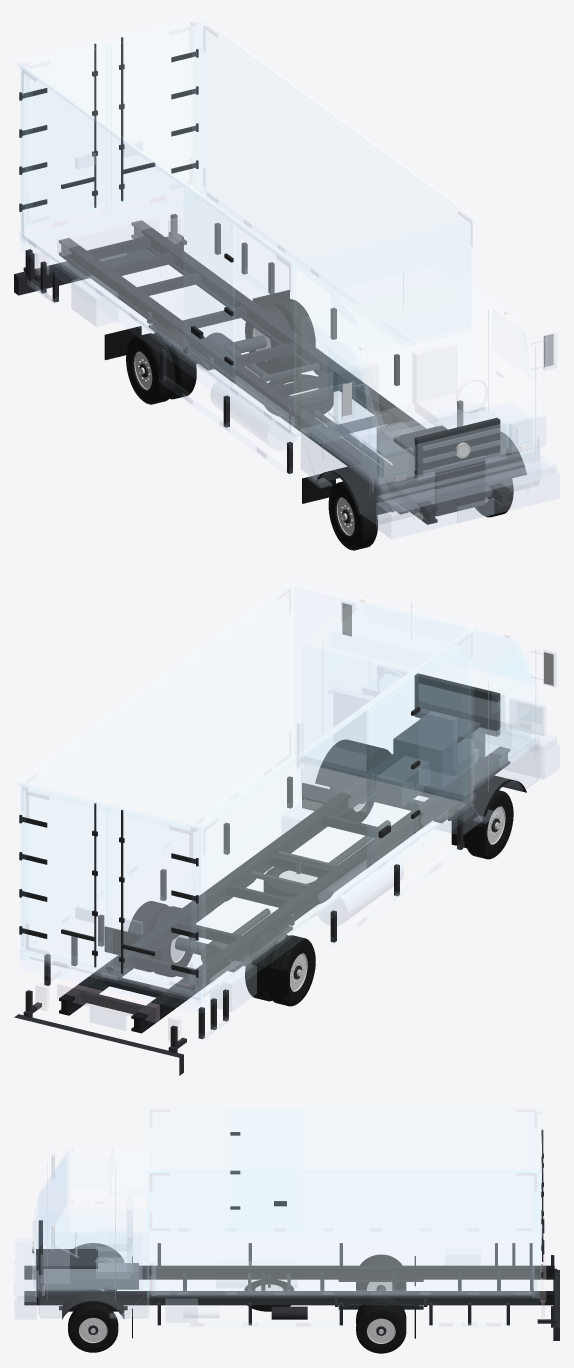
The model's file is vw_delivery_oxi_raiox.glb.
3 views of the same model, one above another, from view 1: azimuth 30°, elevation 25°; view 2: azimuth 150°, elevation 25°; view 3: azimuth 270°, elevation 25° (orthographic). The views are drawn at different scales.
Parts seen in each view (by area): view 1: Floor, Rail_Flange_Top (×2), Tire (×6), Front_Bumper, Cab_Skirt, Crossmember (×7), Rail_Web (×2), Seat_Back (×2), Engine, Cab_Floor, Dashboard, Front_Bumper_Lip (+13 smaller); view 2: Floor, Cab_Skirt, Rail_Flange_Top (×2), Tire (×6), Crossmember (×7), Rail_Web (×2), Engine, Dashboard, Wheel_Arch_Liner (×2), Seat_Back (×2), Radiator, Mud_Flap (×4) (+9 smaller); view 3: Floor, Cab_Skirt, Rail_Web (×2), Rail_Flange_Top (×2), Tire (×4), Rail_Flange_Bottom (×2), Cab_Floor, Engine, Dashboard, Front_Bumper, Seat_Base (×2), Wheel_Arch_Liner (×2) (+9 smaller).
Boxes of the visible parts, <box> form: Floor: <box>32,199,402,436</box>; Rail_Flange_Top (×2): <box>59,220,510,512</box>; Tire (×6): <box>126,299,377,550</box>; Front_Bumper: <box>376,463,559,538</box>; Cab_Skirt: <box>301,391,540,524</box>; Crossmember (×7): <box>87,236,392,435</box>; Rail_Web (×2): <box>61,227,507,523</box>; Seat_Back (×2): <box>333,342,456,424</box>; Engine: <box>393,425,485,516</box>; Cab_Floor: <box>310,394,508,482</box>; Dashboard: <box>362,403,531,477</box>; Front_Bumper_Lip: <box>378,456,556,513</box>; Floor: <box>29,762,464,999</box>; Cab_Skirt: <box>301,728,540,834</box>; Rail_Flange_Top (×2): <box>59,746,509,1020</box>; Tire (×6): <box>128,790,513,1006</box>; Crossmember (×7): <box>81,814,382,1014</box>; Rail_Web (×2): <box>61,753,507,1031</box>; Engine: <box>393,711,484,788</box>; Dashboard: <box>363,674,532,748</box>; Wheel_Arch_Liner (×2): <box>315,739,526,824</box>; Seat_Back (×2): <box>334,688,456,770</box>; Radiator: <box>414,673,500,736</box>; Mud_Flap (×4): <box>104,783,485,996</box>; Floor: <box>151,1235,534,1295</box>; Cab_Skirt: <box>38,1232,149,1317</box>; Rail_Web (×2): <box>24,1271,554,1302</box>; Rail_Flange_Top (×2): <box>24,1265,554,1296</box>; Tire (×4): <box>68,1279,406,1353</box>; Rail_Flange_Bottom (×2): <box>24,1277,554,1305</box>; Cab_Floor: <box>44,1234,141,1289</box>; Engine: <box>36,1249,97,1290</box>; Dashboard: <box>41,1213,69,1283</box>; Front_Bumper: <box>15,1243,36,1319</box>; Seat_Base (×2): <box>96,1230,129,1278</box>; Wheel_Arch_Liner (×2): <box>62,1243,124,1319</box>.
Bounding box in the file's own units: 2.72 × 3.2 × 8.34.
